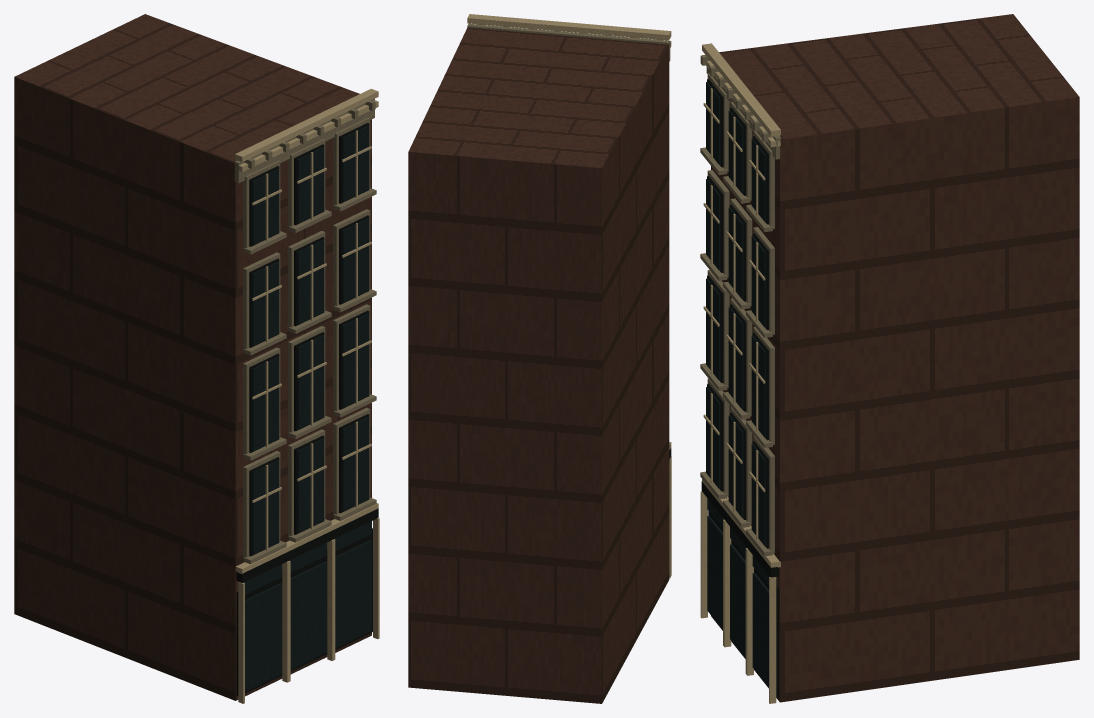
3 views of the same model, side by side, from view 1: azimuth 30°, elevation 25°; view 2: azimuth 150°, elevation 25°; view 3: azimuth 270°, elevation 25° (orthographic). The views are drawn at different scales.
Parts seen in each view (by area): view 1: hoogstraat-353-0, hoogstraat-353-2, hoogstraat-353-4, hoogstraat-353-3, hoogstraat-353-1; view 2: hoogstraat-353-0, hoogstraat-353-3, hoogstraat-353-4; view 3: hoogstraat-353-0, hoogstraat-353-2, hoogstraat-353-4, hoogstraat-353-3, hoogstraat-353-1.
Part boxes in pixels (x1,y1,x2,y2): hoogstraat-353-0: (14,14,371,700); hoogstraat-353-2: (244,126,371,691); hoogstraat-353-4: (234,98,376,564); hoogstraat-353-3: (235,88,379,703); hoogstraat-353-1: (236,123,378,695); hoogstraat-353-0: (408,27,669,703); hoogstraat-353-3: (467,14,671,578); hoogstraat-353-4: (467,23,670,62); hoogstraat-353-0: (711,14,1079,702); hoogstraat-353-2: (706,82,769,687); hoogstraat-353-4: (700,55,781,556); hoogstraat-353-3: (700,43,780,703); hoogstraat-353-1: (701,79,779,696).
Bounding box in the file's own units: 7.81 × 16.38 × 9.84.
5 materials, 5 textured.
